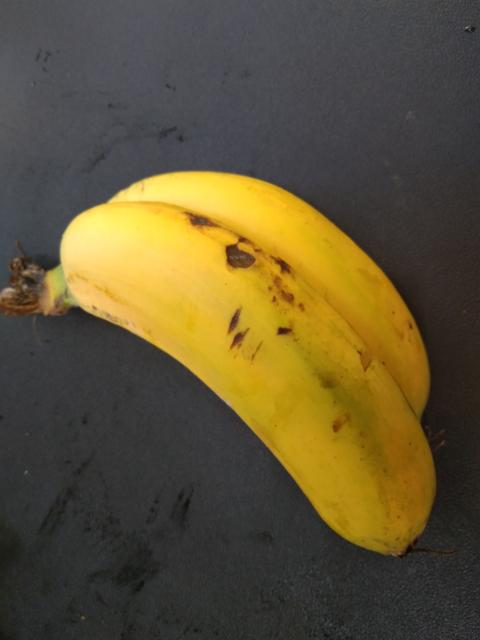ripe: (60, 202, 425, 557)
